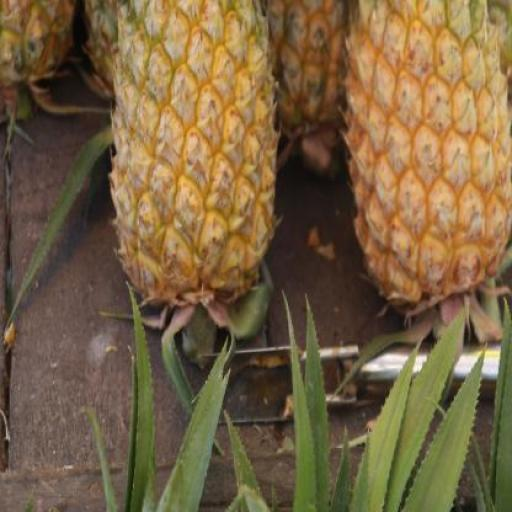Pineapple - v8 v1: (106, 0, 290, 304), (342, 0, 512, 292)
